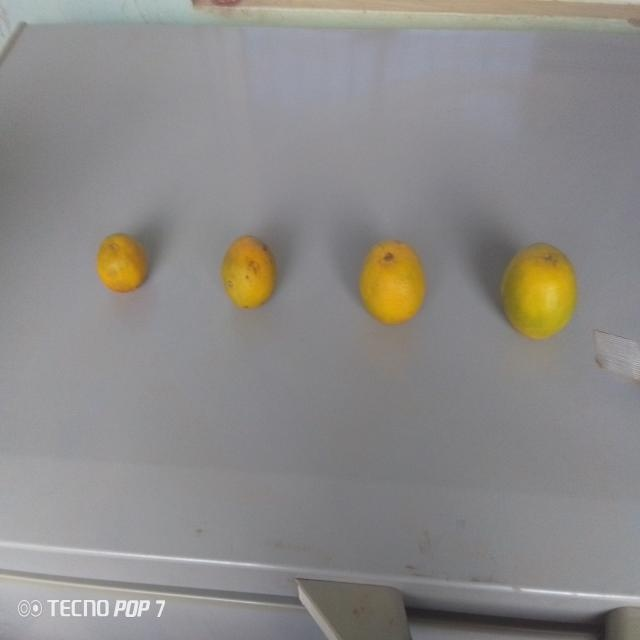agrume: (494, 230, 583, 354), (354, 234, 433, 332), (92, 221, 158, 312), (216, 234, 288, 316)
